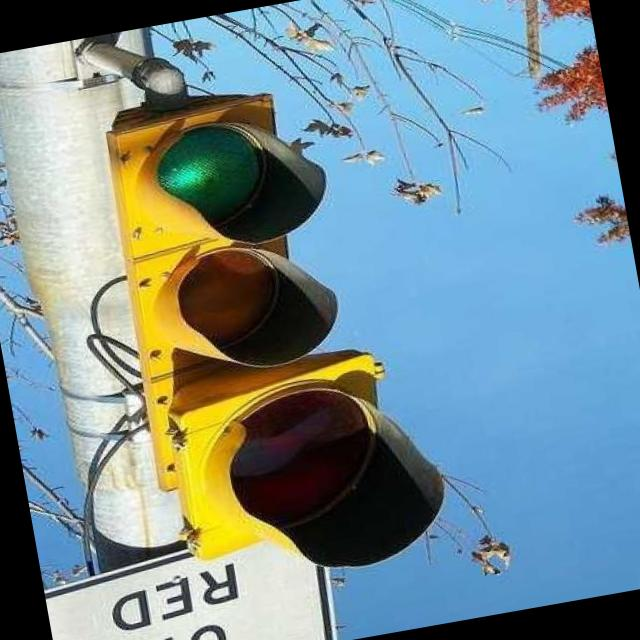green-lights: (108, 82, 340, 272)
